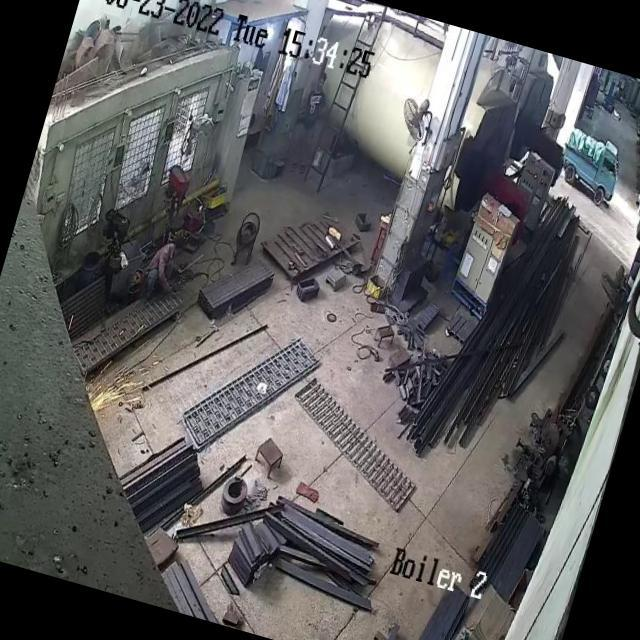person: (281, 62, 340, 180), (141, 232, 189, 300)
